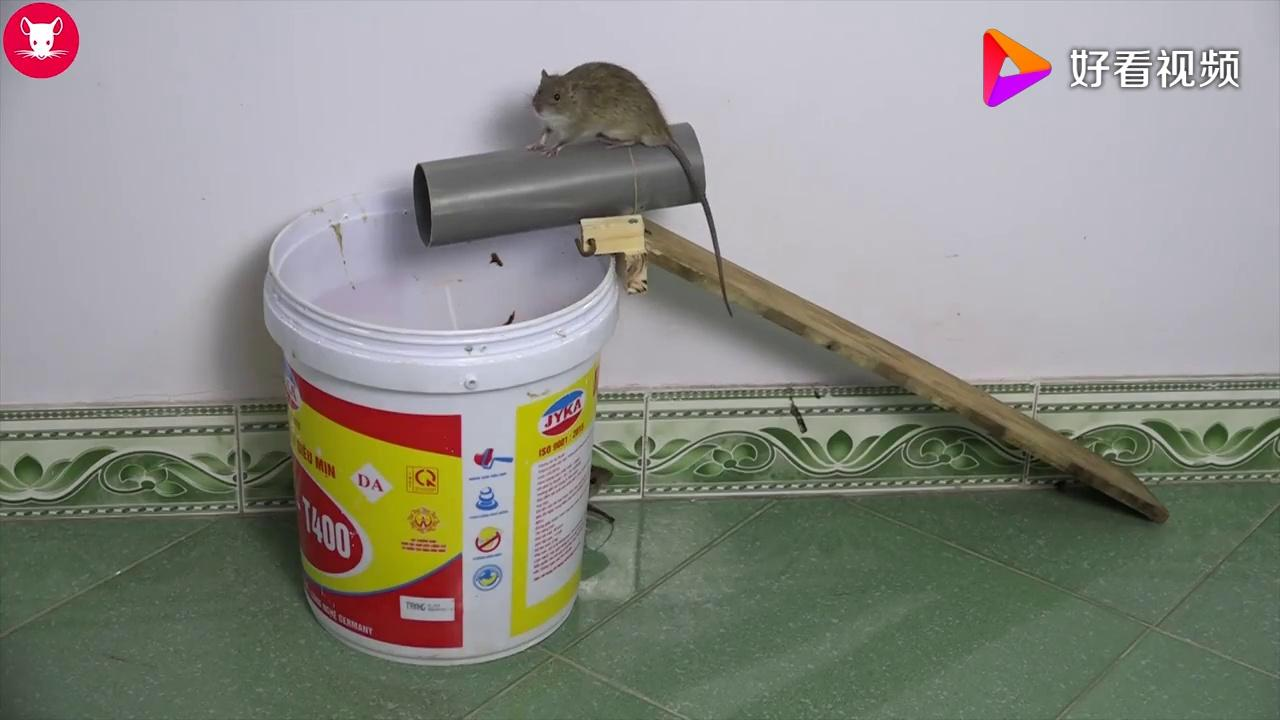rat: (512, 47, 707, 227)
